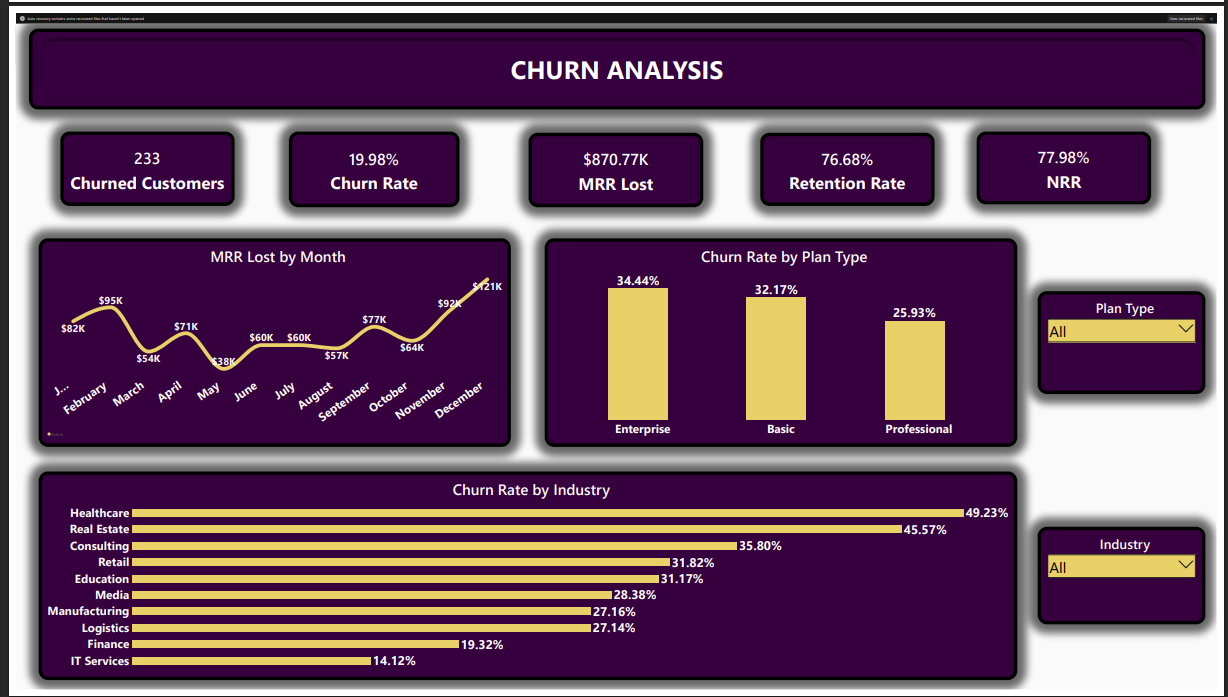

The dashboard page shown, as its layout file describes it:
{"tool":"powerbi","page":{"name":"CHURN ANALYSIS","canvas":[3840,2160],"ordinal":2},"visuals":[{"type":"shape","box":[43.3,47.6,3761.3,259.7],"z":0},{"type":"card","title":"Total Revenue","fields":{"Values":["crm_customers_clean.MRR Lost"]},"box":[1640.4,380.9,558.3,238.1],"z":1000},{"type":"card","title":"Total Revenue","fields":{"Values":["crm_customers_clean.Churned Customers"]},"box":[142.8,376.6,558.3,238.1],"z":2000},{"type":"card","title":"Total Revenue","fields":{"Values":["crm_customers_clean.Retention Rate"]},"box":[2380.6,380.9,558.3,233.7],"z":3000},{"type":"card","title":"Total Revenue","fields":{"Values":["crm_subscriptions_clean.Churn Rate"]},"box":[874.3,376.6,545.4,242.4],"z":4000},{"type":"lineChart","title":"MRR Lost by Month","fields":{"Category":["crm_subscriptions_clean.end_date.Variation.Date Hierarchy.Month"],"Series":["crm_subscriptions_clean.status"],"Y":["crm_customers_clean.MRR Lost"]},"box":[73.6,718.5,1510.6,666.6],"z":5000},{"type":"clusteredBarChart","title":"Churn Rate by Industry","fields":{"Category":["crm_customers_clean.industry"],"Y":["crm_subscriptions_clean.Churn Rate"]},"box":[73.6,1463,3129.3,666.6],"z":7000},{"type":"columnChart","title":"Churn Rate by Plan Type","fields":{"Category":["crm_customers_clean.plan_type"],"Series":["crm_subscriptions_clean.status"],"Y":["crm_subscriptions_clean.Churn Rate"]},"box":[1692.4,718.5,1510.6,666.6],"z":8000},{"type":"slicer","title":"Plan Type","fields":{"Values":["crm_subscriptions_clean.plan_type"]},"box":[3267.9,887.3,536.7,328.9],"z":9000},{"type":"slicer","title":"Industry","fields":{"Values":["crm_customers_clean.industry"]},"box":[3267.9,1640.4,536.7,311.6],"z":11000},{"type":"card","title":"Total Revenue","fields":{"Values":["crm_subscriptions_clean.NRR"]},"box":[3073.1,376.6,558.3,233.7],"z":11001}]}

Visuals, with their boxes on the page's 3840x2160 design canvas (x1, y1, x2, y2). These are canvas units, not pixel positions in the 1228x697 screenshot, which may show the page scaled, cropped or inside an application window:
shape: BBox(43, 48, 3805, 307)
"Total Revenue" card: BBox(1640, 381, 2199, 619)
"Total Revenue" card: BBox(143, 377, 701, 615)
"Total Revenue" card: BBox(2381, 381, 2939, 615)
"Total Revenue" card: BBox(874, 377, 1420, 619)
"MRR Lost by Month" lineChart: BBox(74, 718, 1584, 1385)
"Churn Rate by Industry" clusteredBarChart: BBox(74, 1463, 3203, 2130)
"Churn Rate by Plan Type" columnChart: BBox(1692, 718, 3203, 1385)
"Plan Type" slicer: BBox(3268, 887, 3805, 1216)
"Industry" slicer: BBox(3268, 1640, 3805, 1952)
"Total Revenue" card: BBox(3073, 377, 3631, 610)
